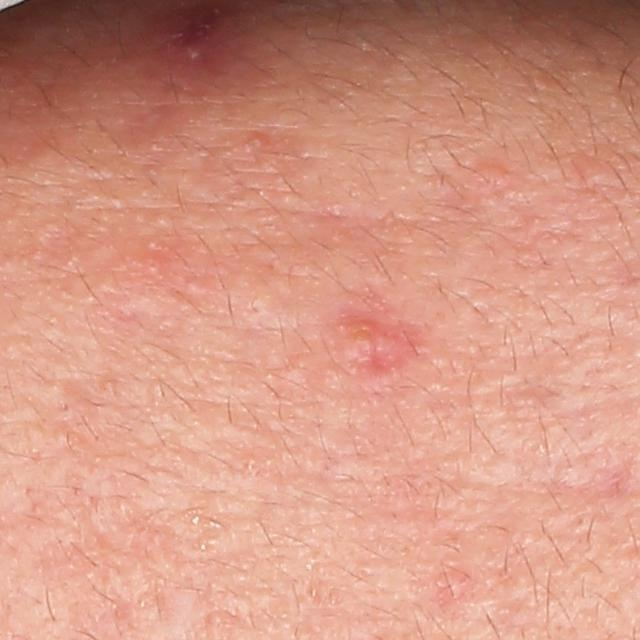papule: (326, 301, 430, 392)
